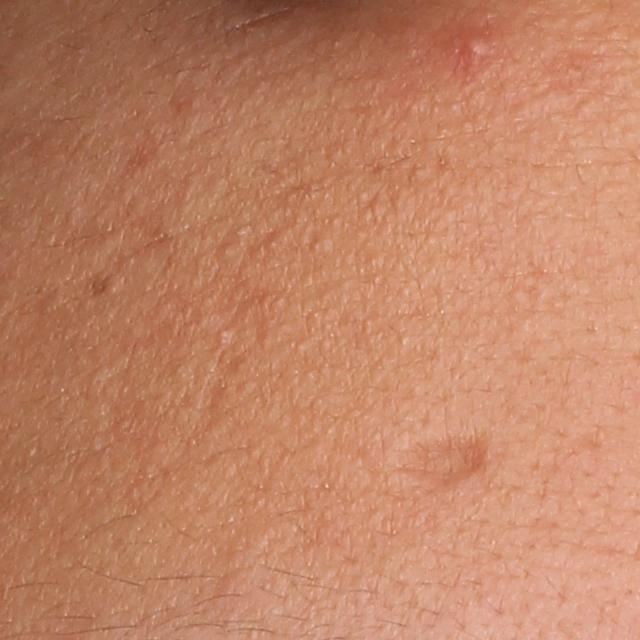atrophic_scar: (388, 434, 492, 496)
comedo: (215, 327, 233, 344)
